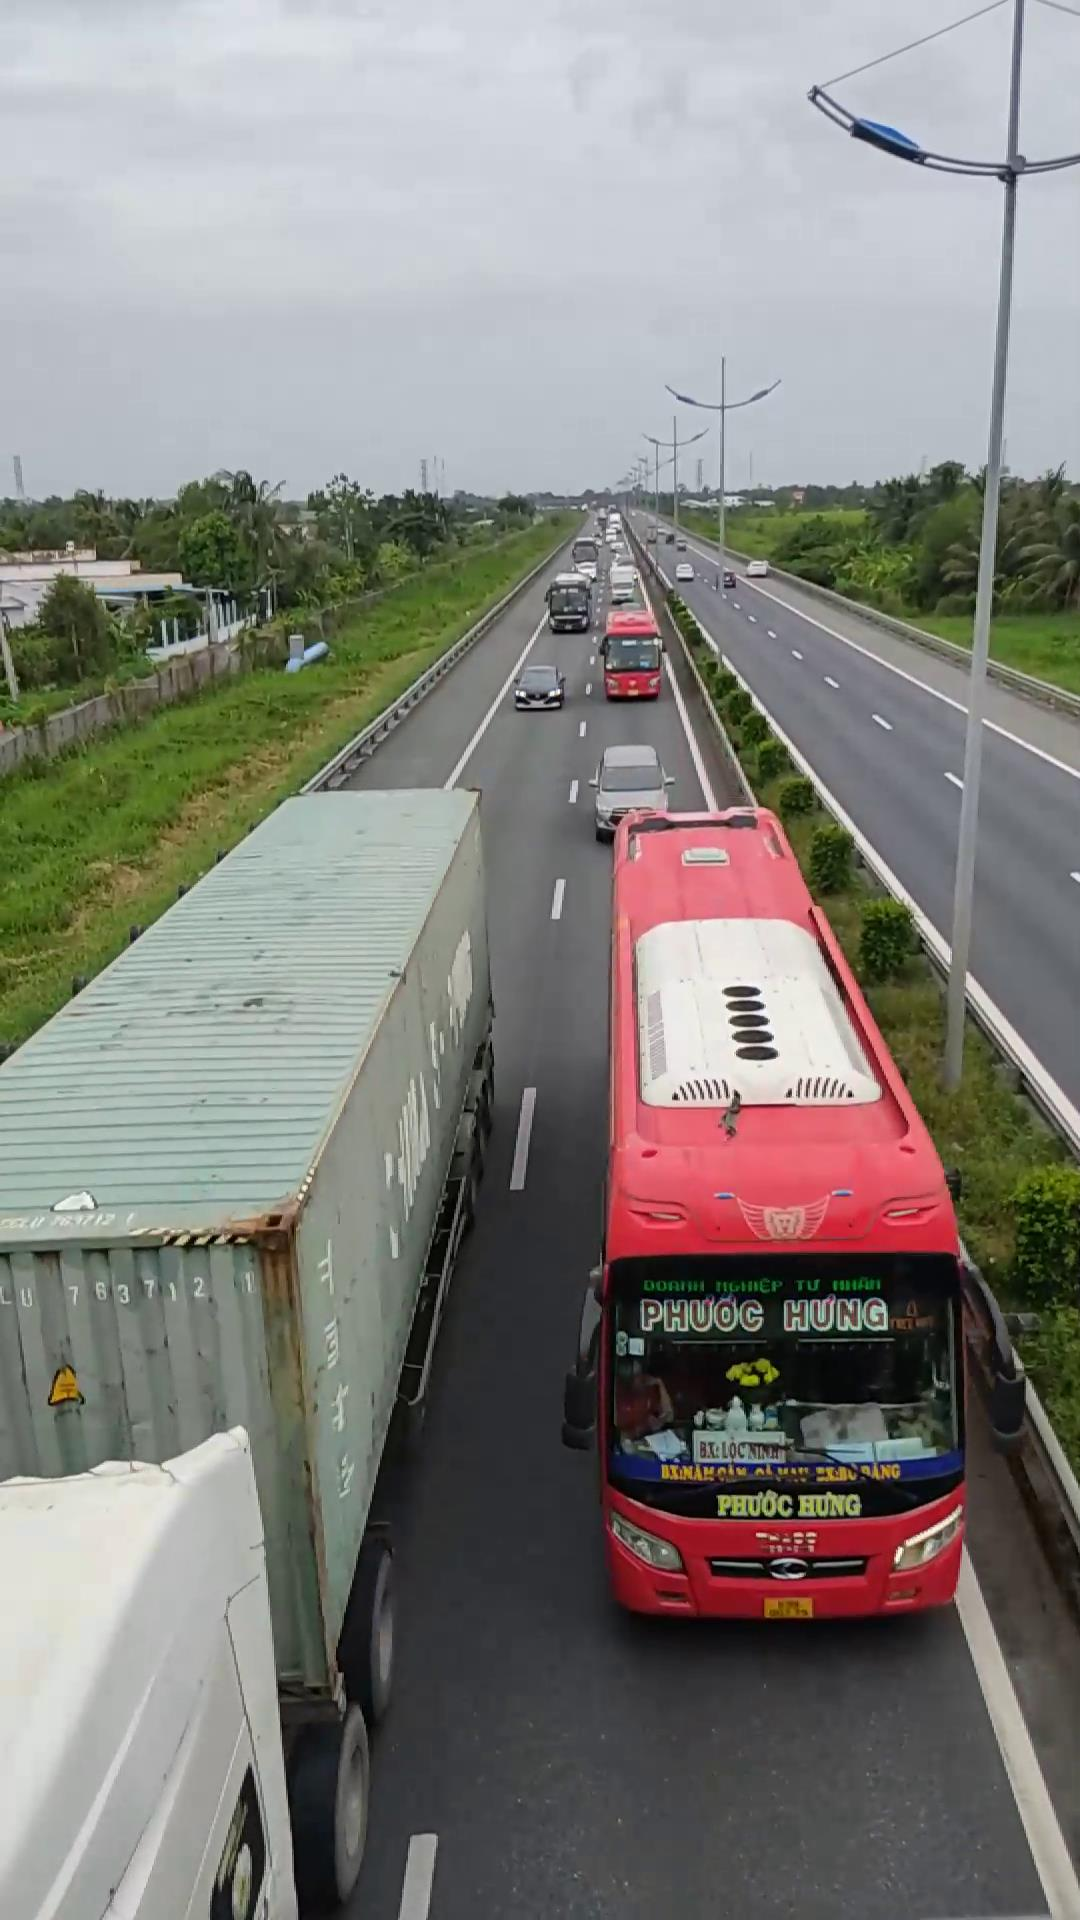bus: (588, 800, 975, 1618)
container: (1, 775, 497, 1920)
